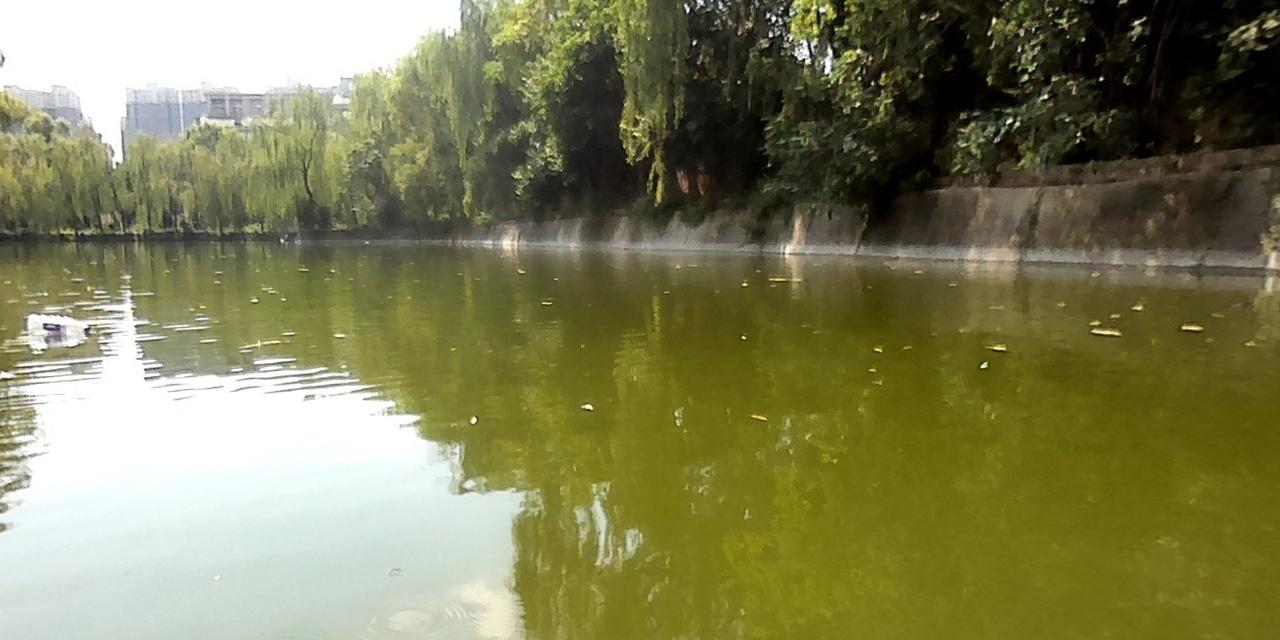bottle: (22, 306, 92, 335)
